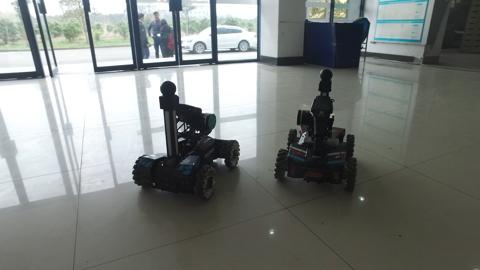chariot: (112, 75, 248, 207), (269, 60, 381, 197)
